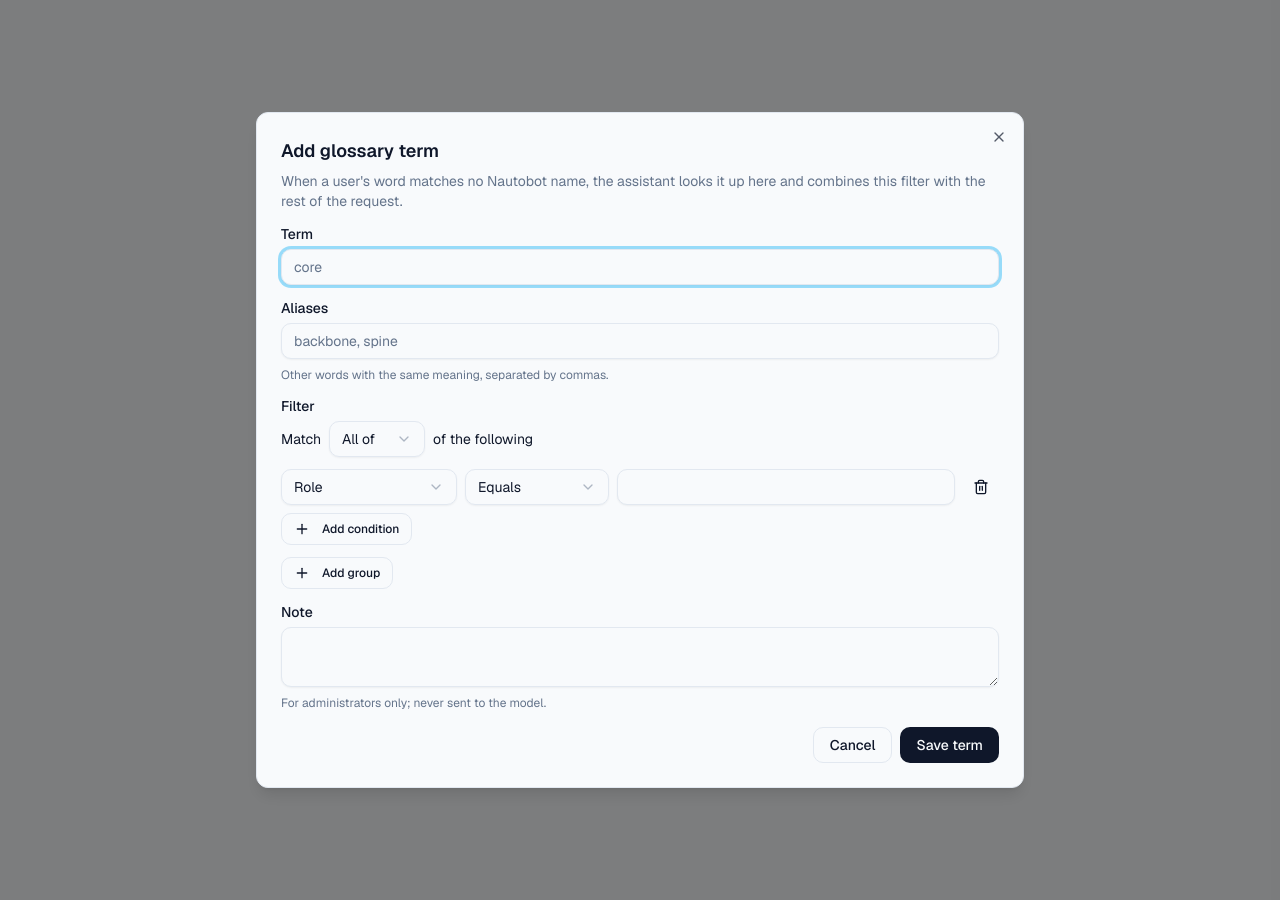
Test case: AiGlossaryTermDialog › refuses a condition without a value
Type "dc" into the field labelled "Term" at (640, 267), box 281,249 -> 999,285
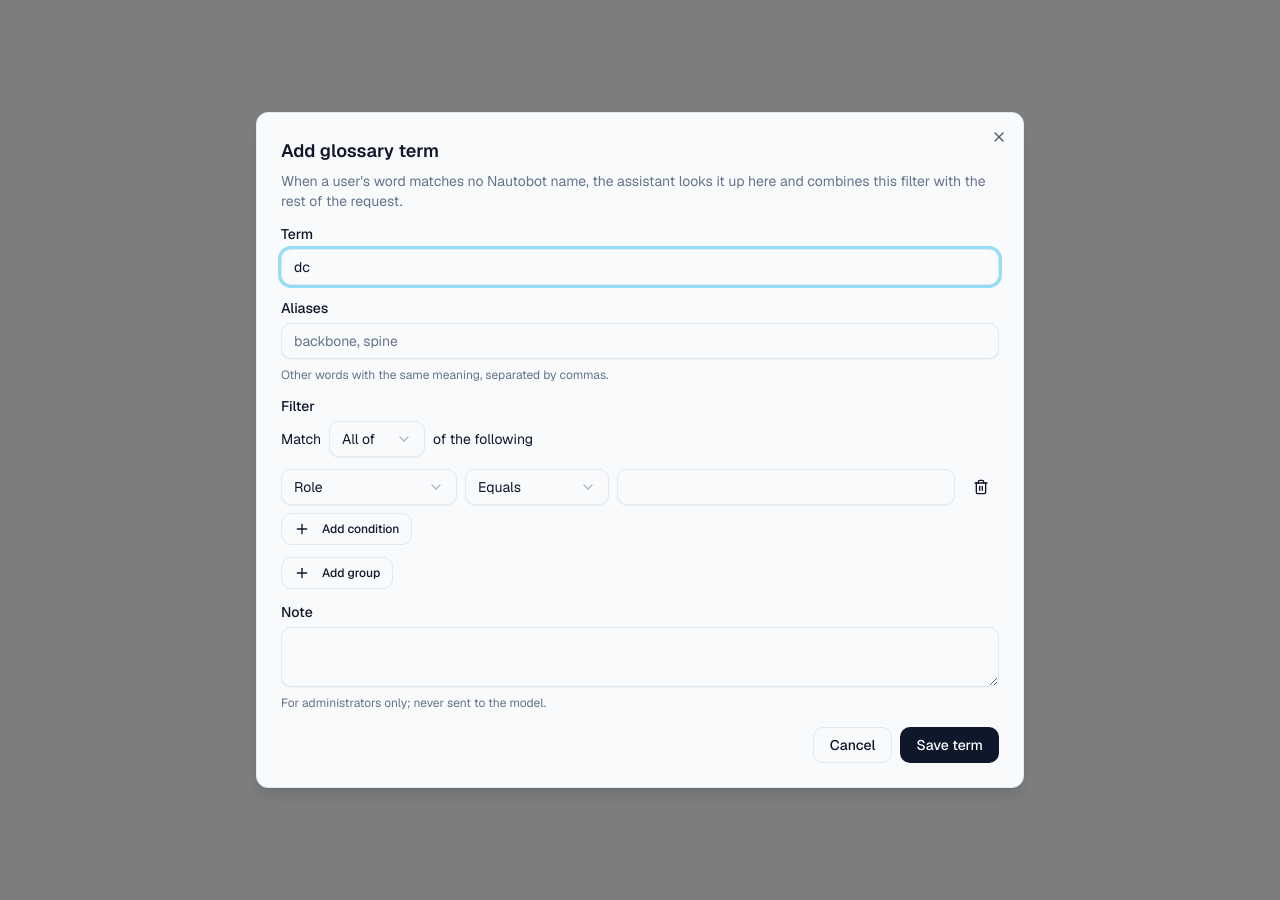
Click the button "Save term" at (950, 745), box 900,727 -> 999,763
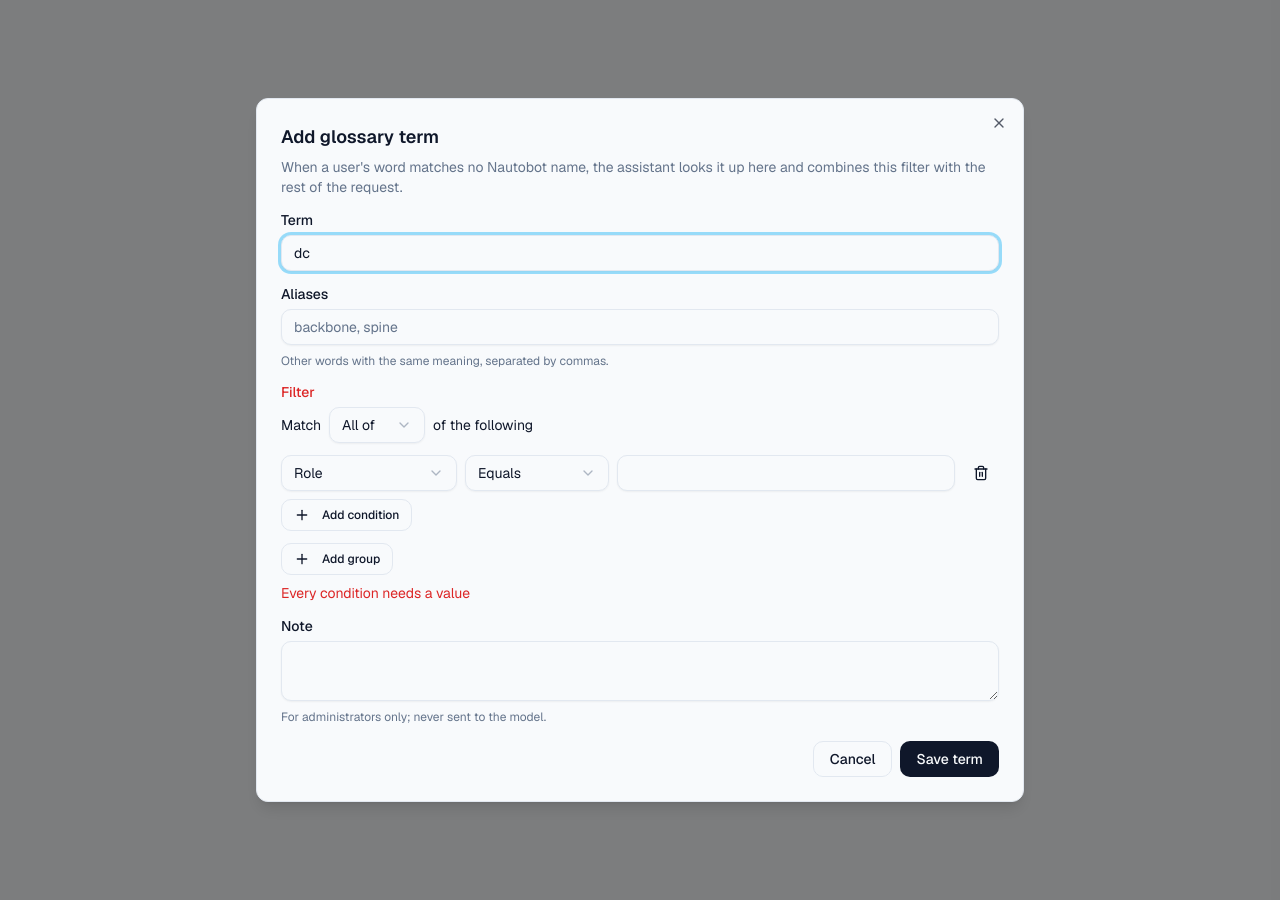
Now the text "Every condition needs a value" is shown, box 281,584 -> 470,602
